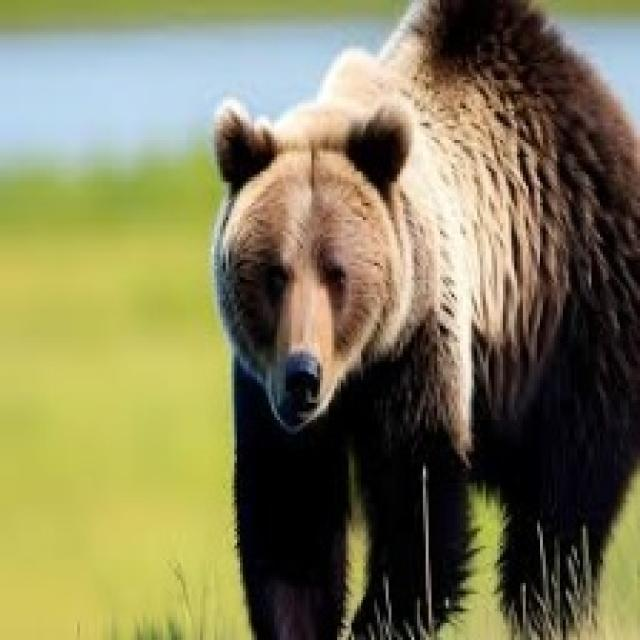animal: (131, 20, 634, 628)
